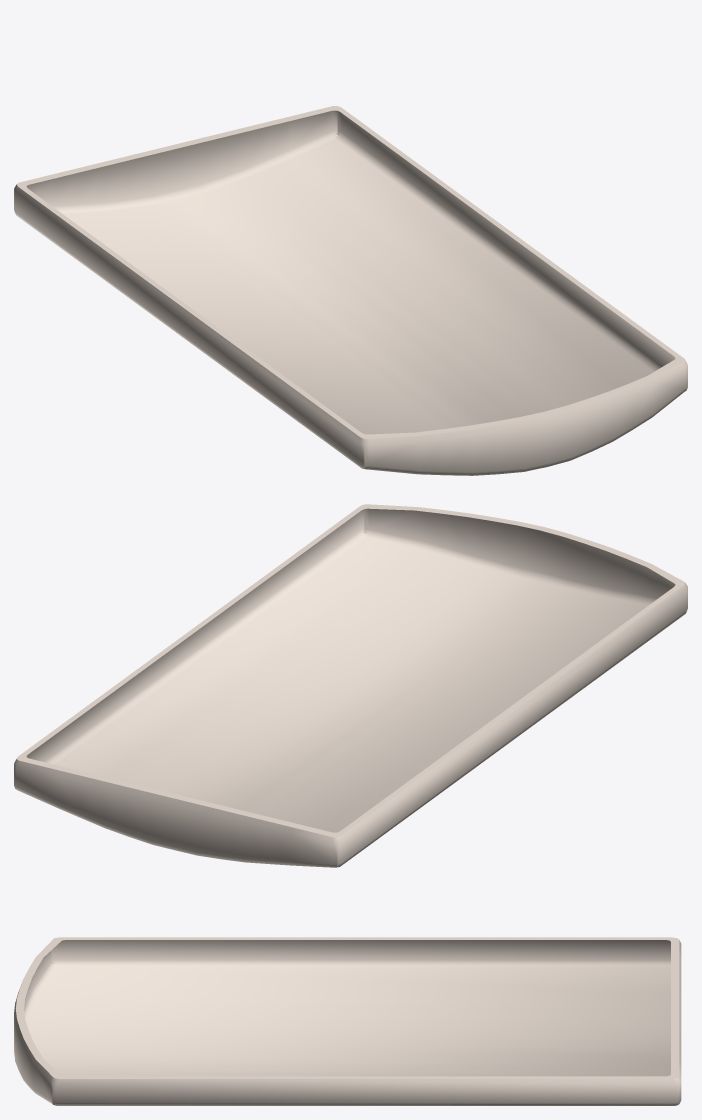
File: MeshFridgeDoorE1_1_GeomSubset_0.obj
3 views of the same model, one above another, from view 1: azimuth 30°, elevation 25°; view 2: azimuth 150°, elevation 25°; view 3: azimuth 270°, elevation 25° (orthographic). The views are drawn at different scales.
Visible parts, largest first — view 1: MeshFridgeDoorE1_1_GeomSubset_0; view 2: MeshFridgeDoorE1_1_GeomSubset_0; view 3: MeshFridgeDoorE1_1_GeomSubset_0.
Part boxes in pixels (box(x1,y1,x2,y2)): MeshFridgeDoorE1_1_GeomSubset_0: box(14, 106, 687, 475); MeshFridgeDoorE1_1_GeomSubset_0: box(14, 504, 687, 867); MeshFridgeDoorE1_1_GeomSubset_0: box(14, 937, 681, 1105).
Size of the model in its own units: 0.8454 by 0.445 by 1.69.
